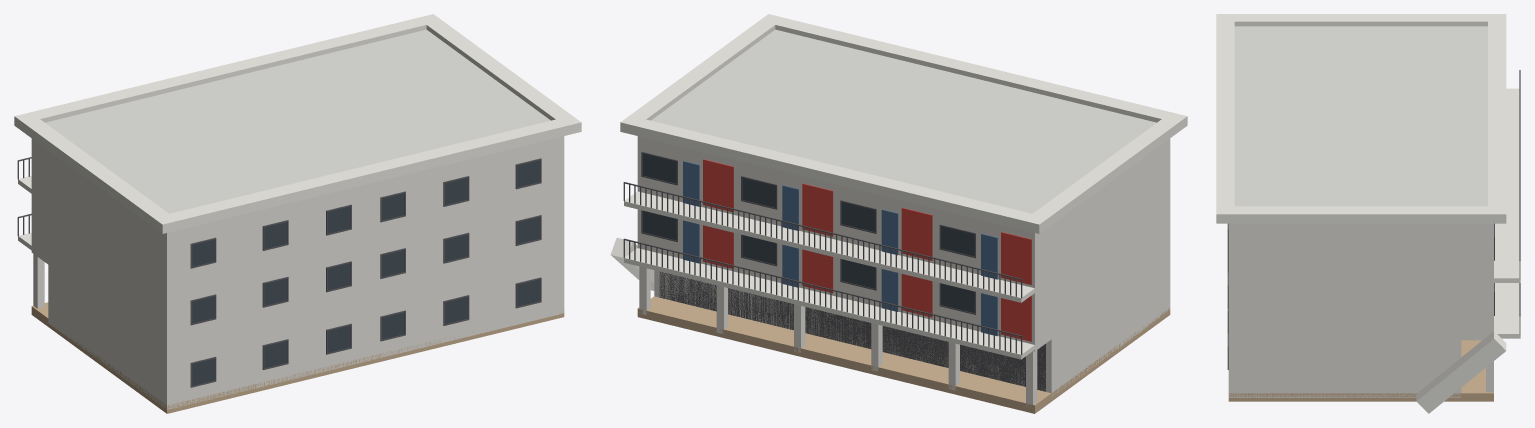
The model's file is ca_apartments3_b.glb.
The picture shows the model from 3 angles, left to right: view 1: azimuth 30°, elevation 25°; view 2: azimuth 150°, elevation 25°; view 3: azimuth 270°, elevation 25°; orthographic projection. The views are drawn at different scales.
Parts seen in each view (by area): view 1: ca_apartments3_b; view 2: ca_apartments3_b; view 3: ca_apartments3_b.
Part boxes in pixels (bbox=[...]): ca_apartments3_b: bbox=[14, 14, 581, 413]; ca_apartments3_b: bbox=[610, 14, 1187, 413]; ca_apartments3_b: bbox=[1216, 14, 1520, 413].
Size of the model in its own units: 23.75 by 10.54 by 14.9.
